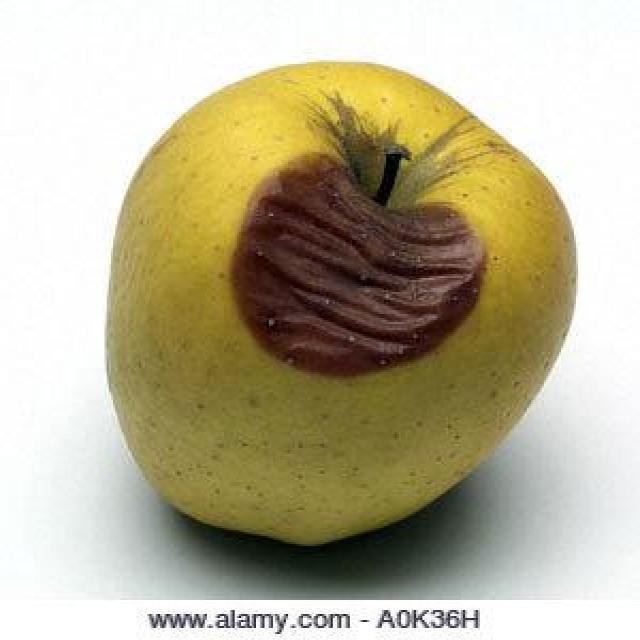Apple: (115, 65, 577, 548)
